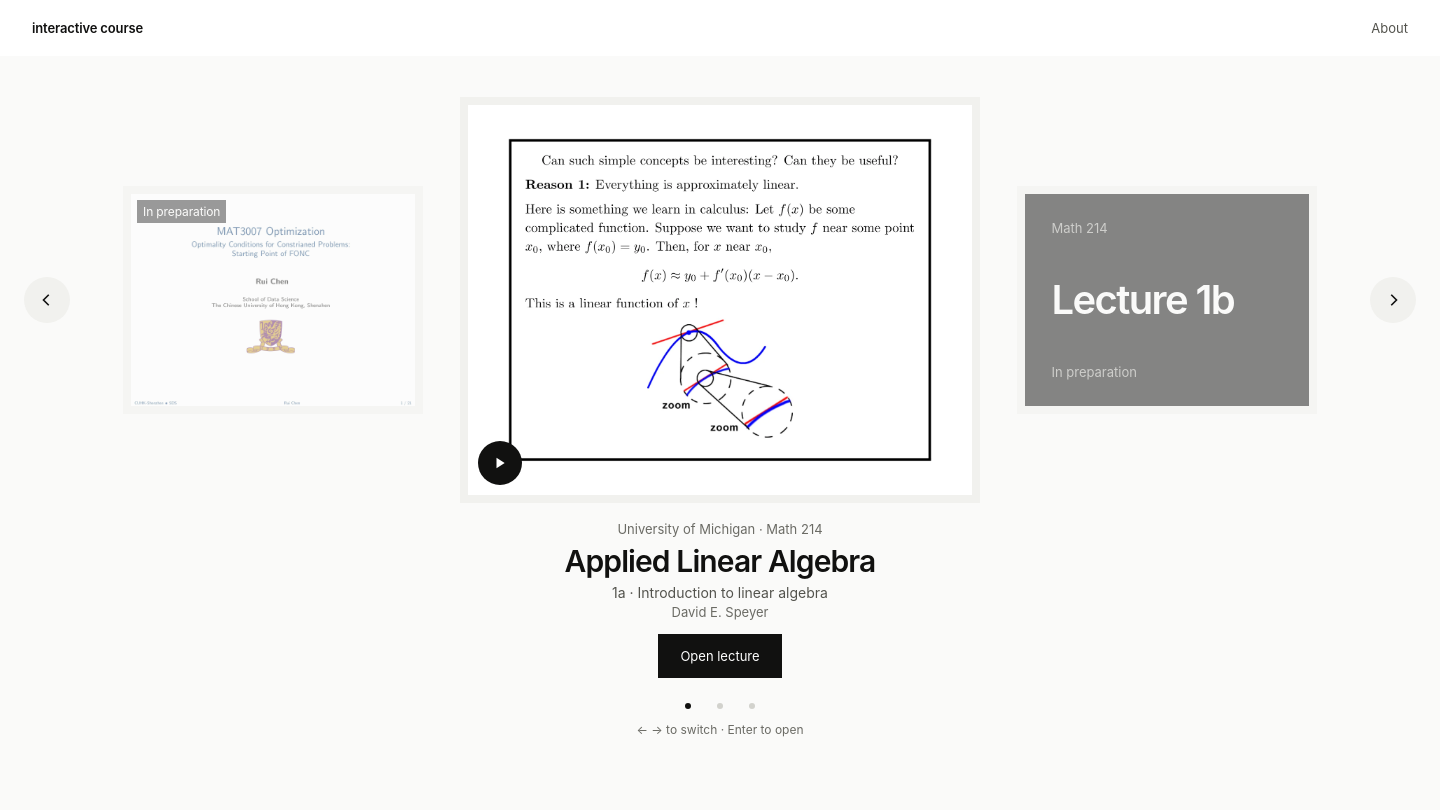
Scenario: CourseMapView › opens the About panel on the same screen
Click the button "About" at {"x": 1390, "y": 28}, box left=1371, top=20, right=1408, bottom=36
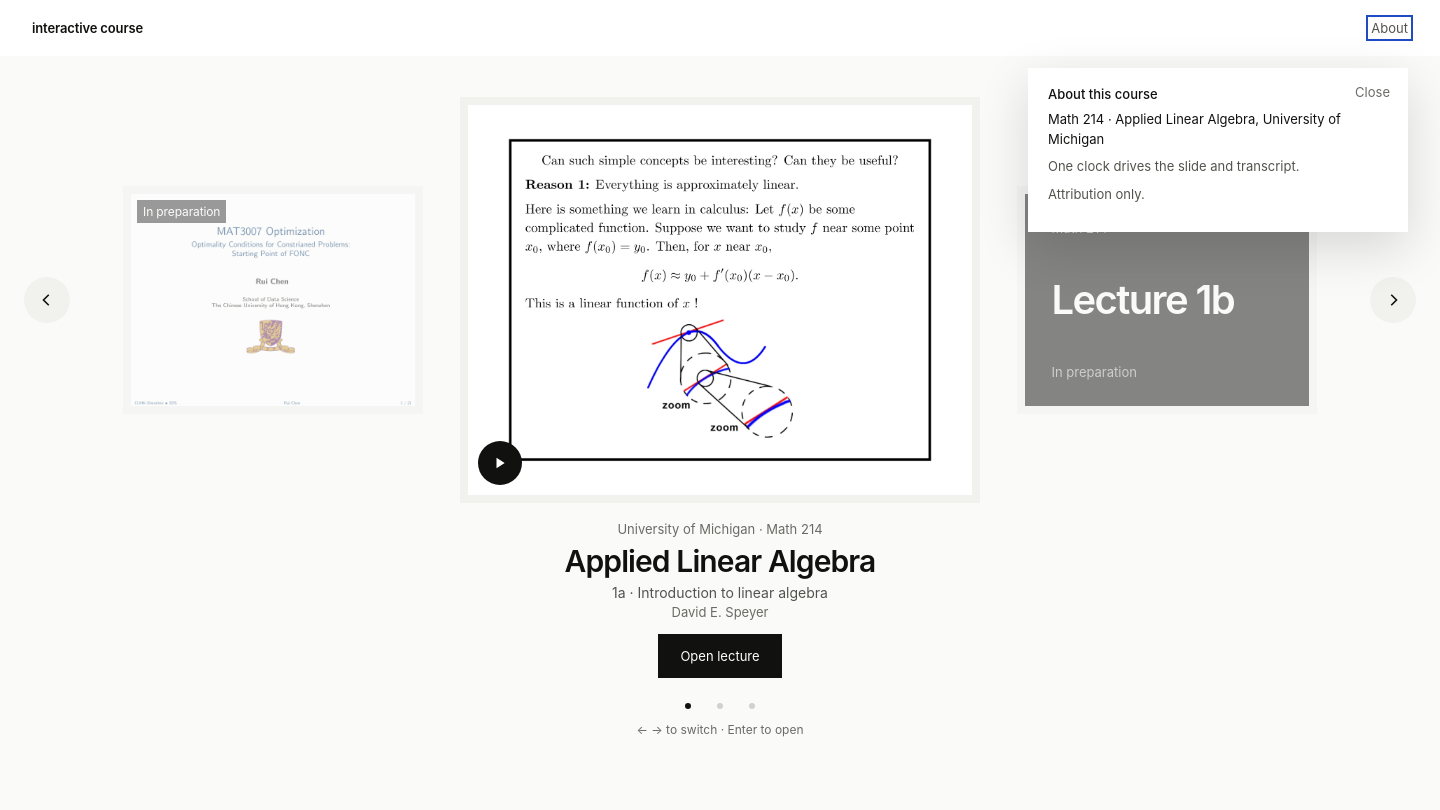
Result: the dialog "About this course" is shown at left=1028, top=68, right=1408, bottom=232
